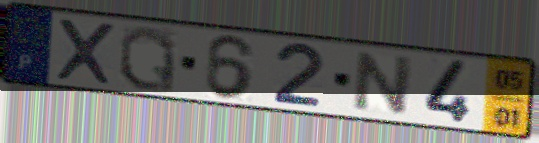2: (271, 40, 328, 114)
4: (421, 56, 479, 127)
6: (203, 32, 257, 102)
N: (349, 49, 418, 117)
Q: (116, 24, 178, 96)
X: (53, 15, 119, 89)
